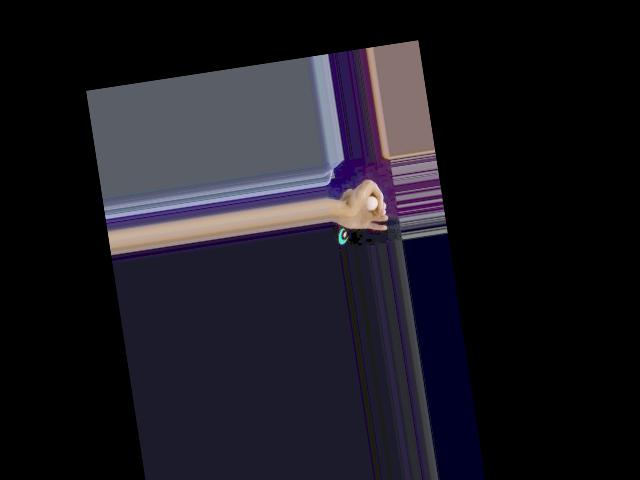egg: (365, 194, 379, 210)
